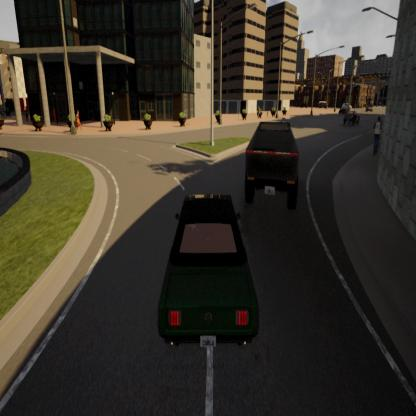Cars: (150, 192, 265, 356), (243, 115, 308, 217), (342, 107, 362, 130), (338, 100, 352, 117)
Pedestrian: (365, 113, 389, 160)
